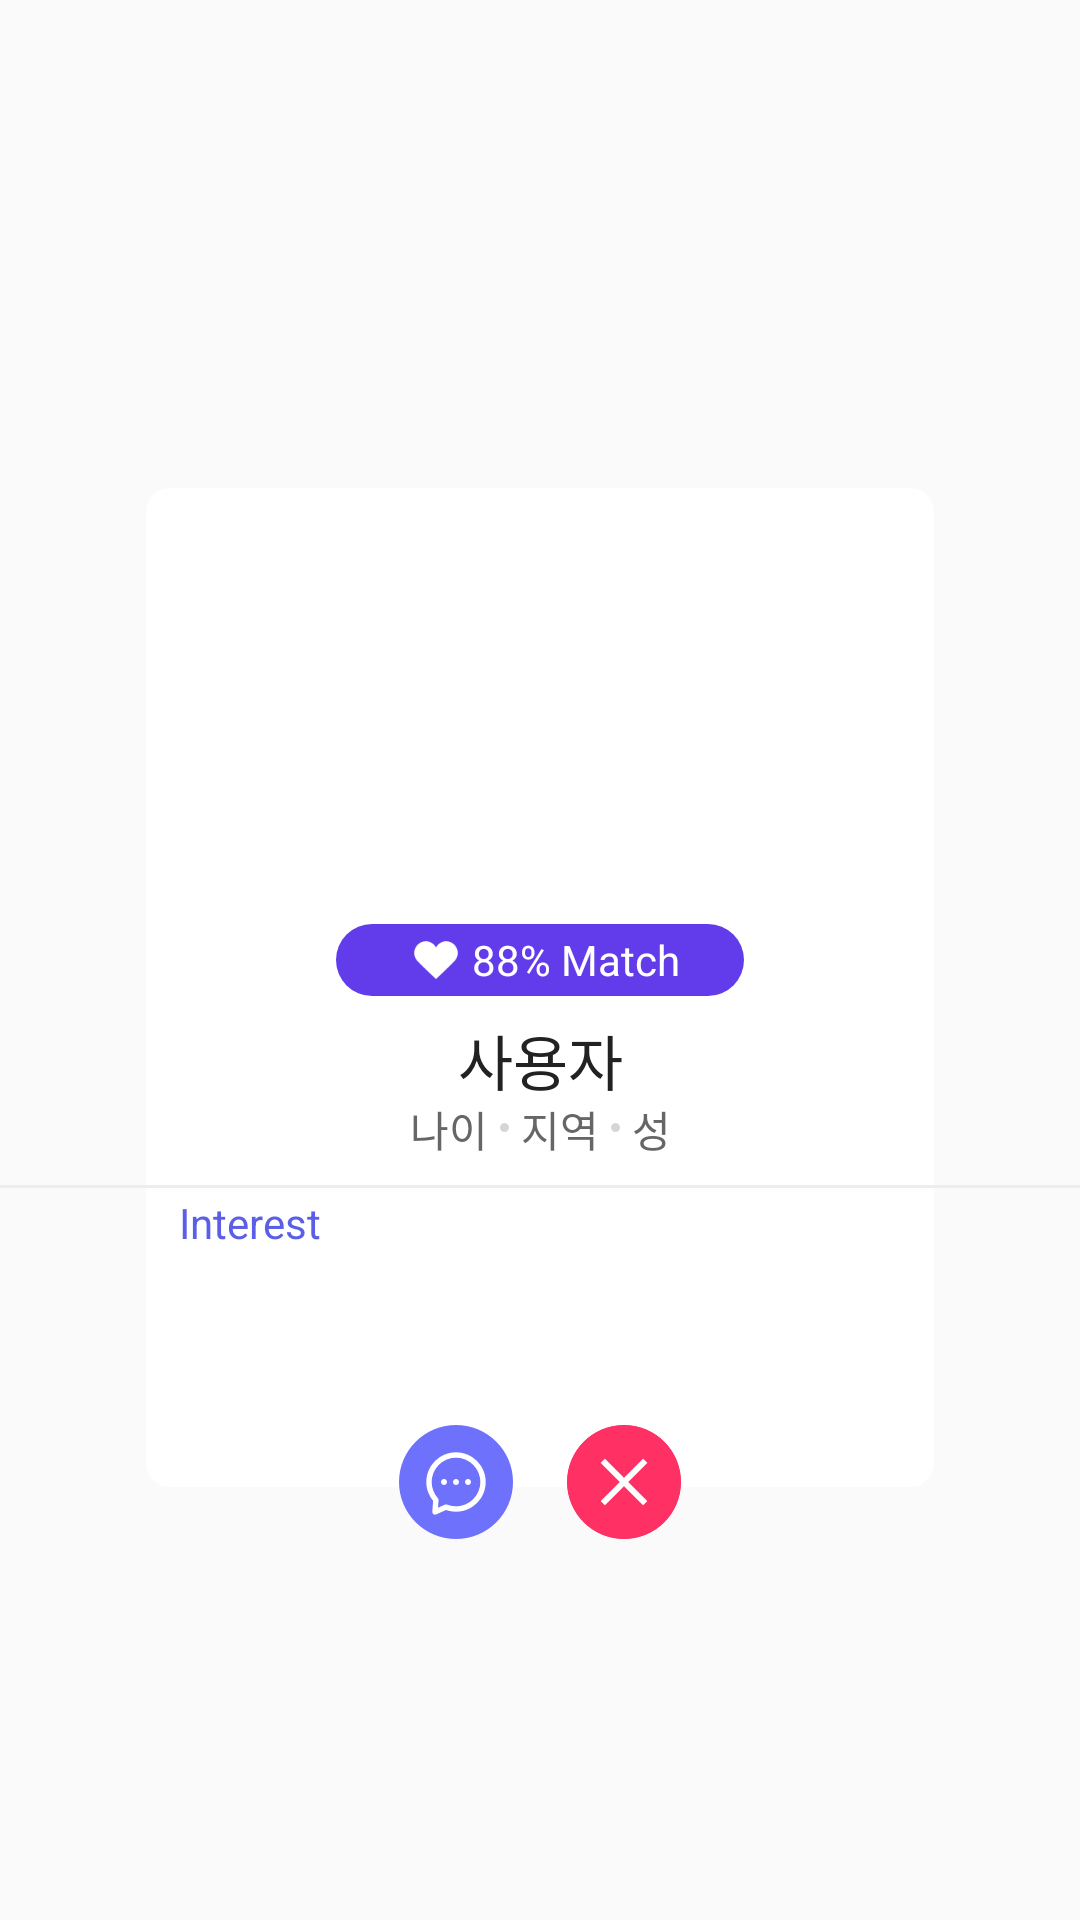

Where to tap for icons on this 1080x1920 app screen, as point (x, y):
love: point (436, 960)
